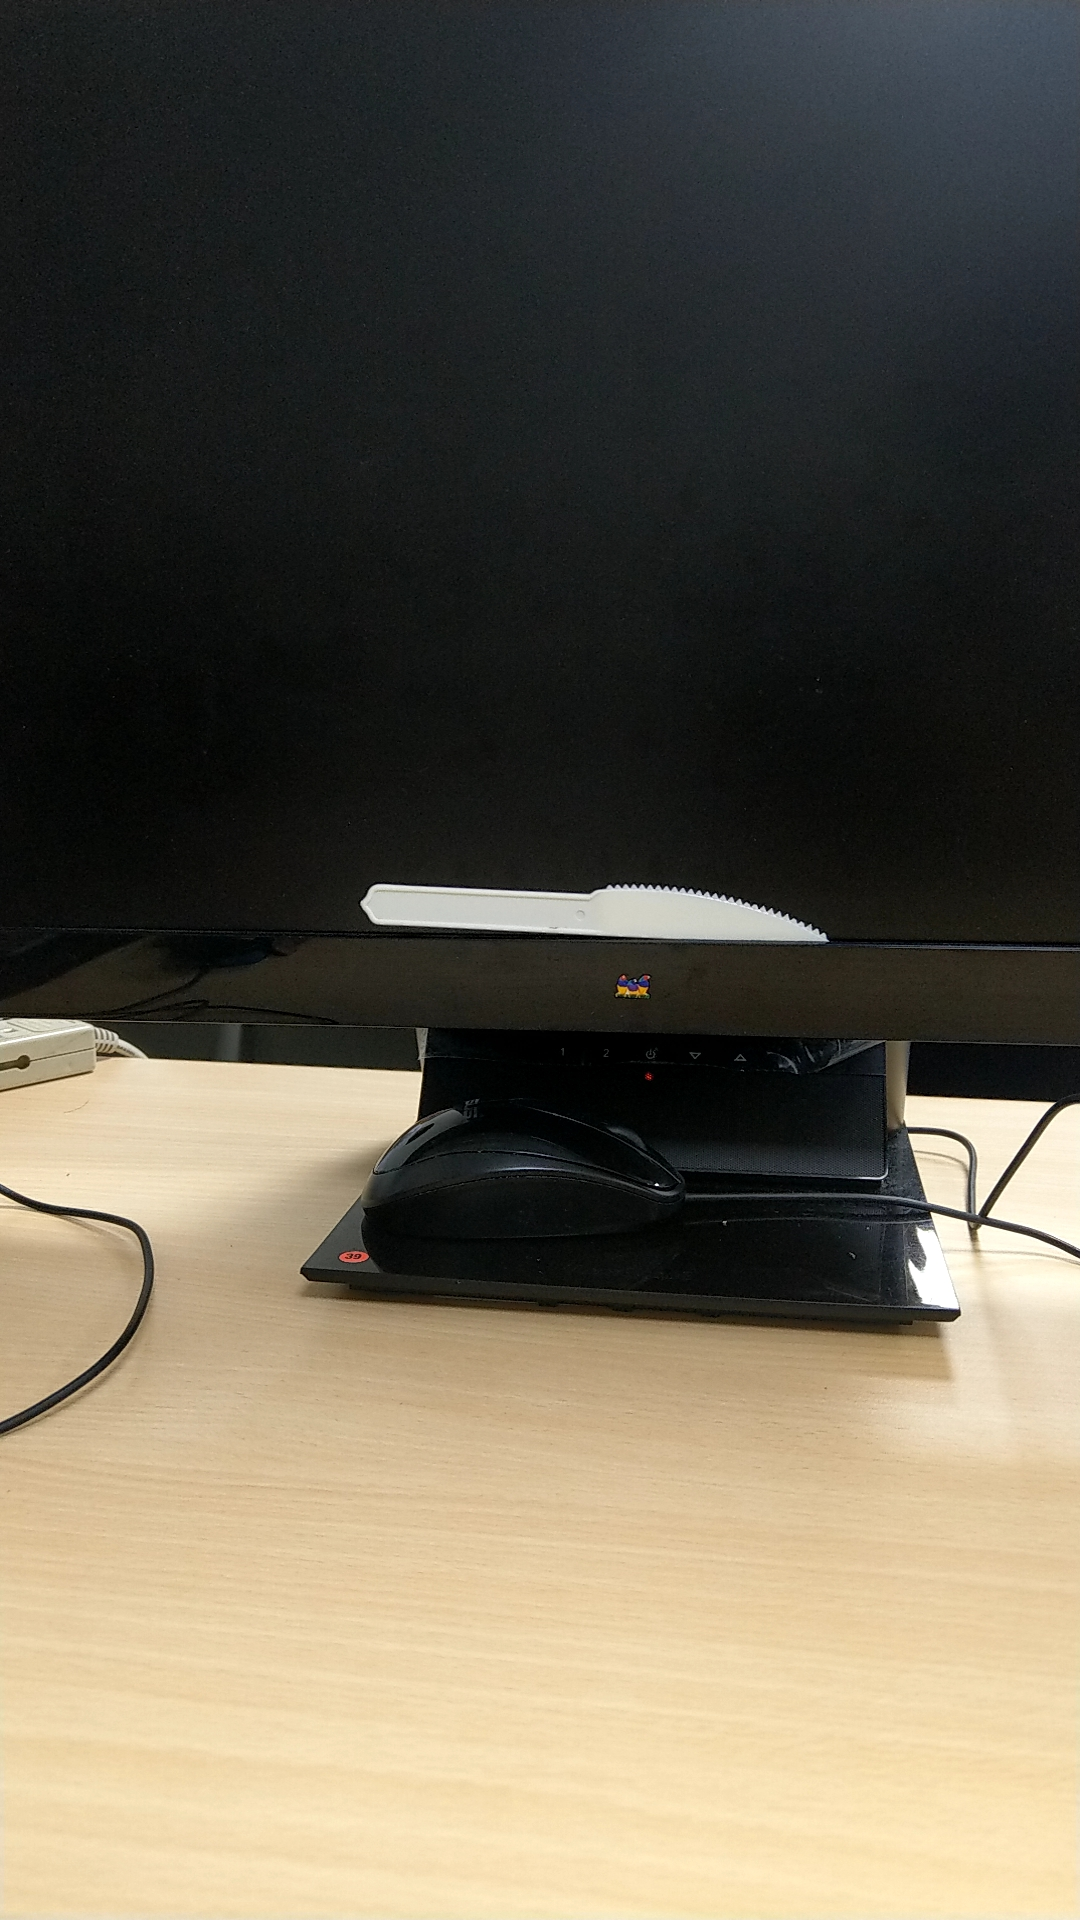knife: (348, 864, 841, 961)
